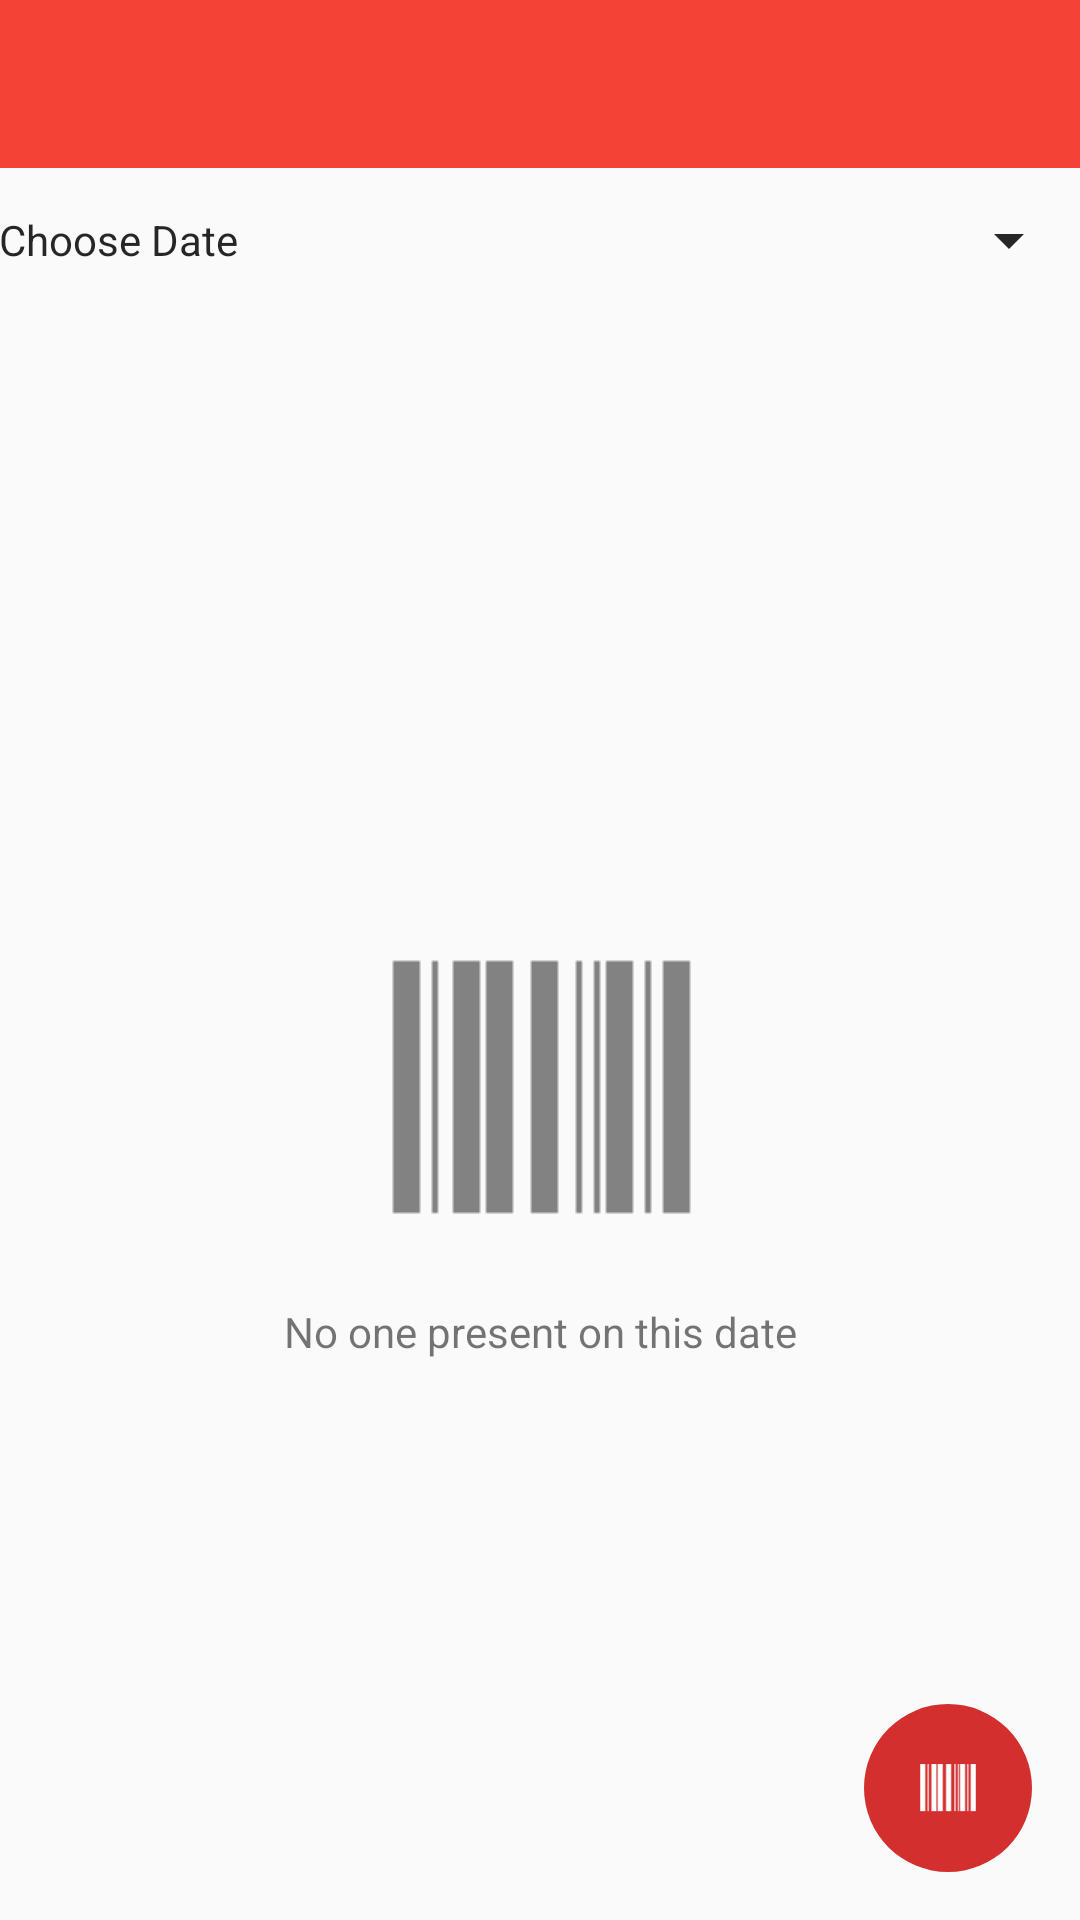

Icons on this 1080x1920 Android screen, each with its box as Rect(x1, y1, x2, y2):
barcode: Rect(392, 960, 691, 1214), Rect(864, 1704, 1032, 1872)
